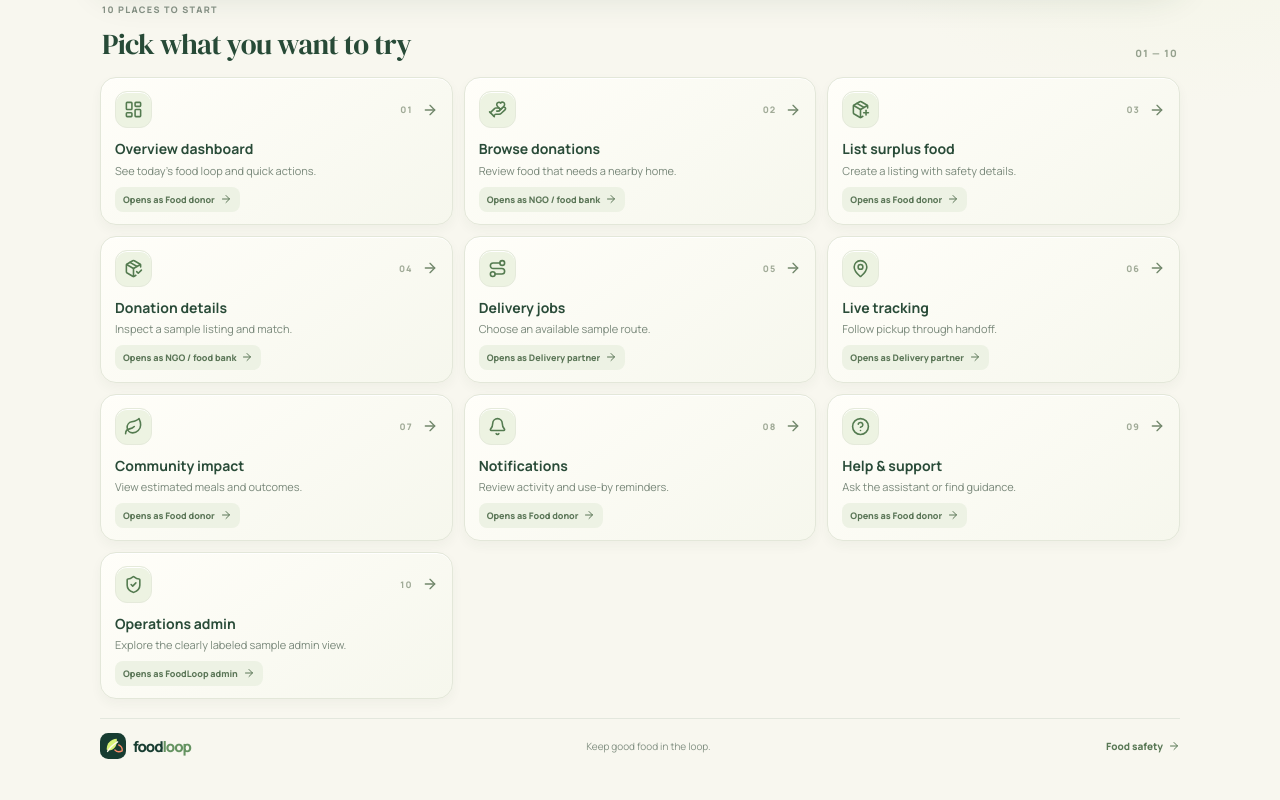
Test: FoodLoop screen selection › opens Notifications with the donor demo identity
The image size is (1280, 800).
(page scrolled)
Click the button with aria-label "Open Notifications as Food donor". click: x=497, y=426
box: [464,394,816,541]
(page scrolled)
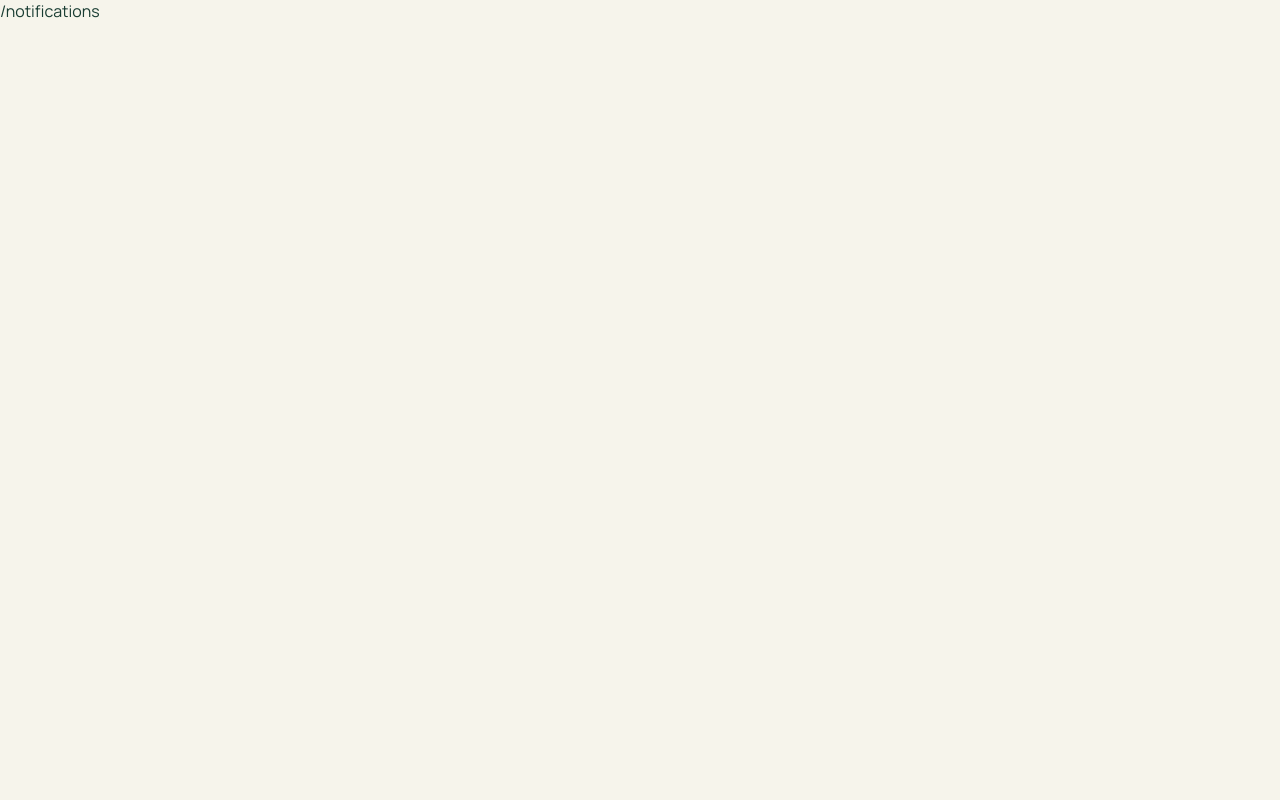
Expected: the text with test id "current-route" reads "/notifications", [0,0,100,22]
